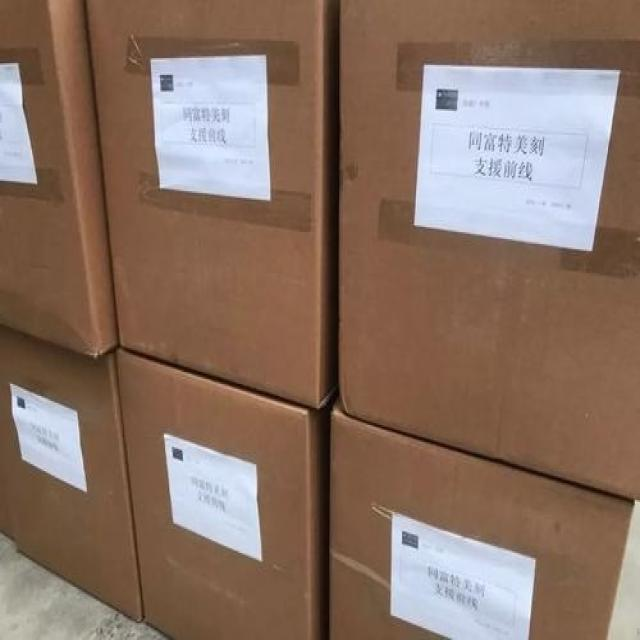box: (339, 0, 639, 500), (84, 0, 342, 410), (330, 383, 636, 638), (115, 347, 339, 638), (0, 325, 144, 623), (0, 0, 118, 359)
